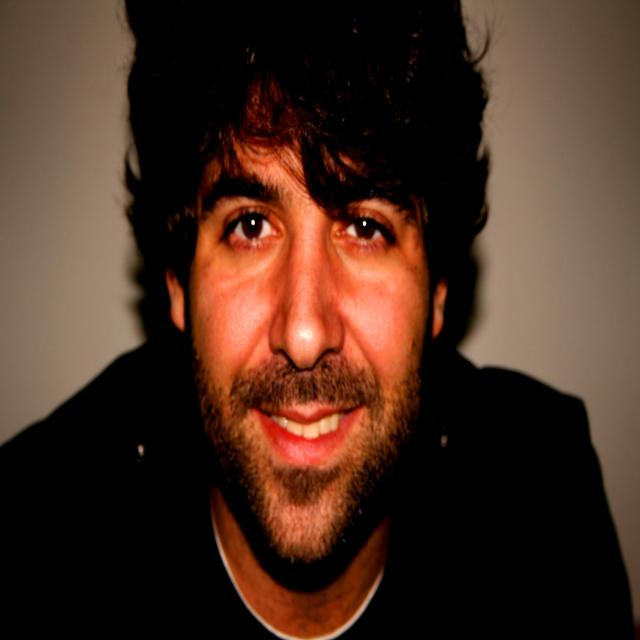no-glass: (212, 201, 406, 250)
